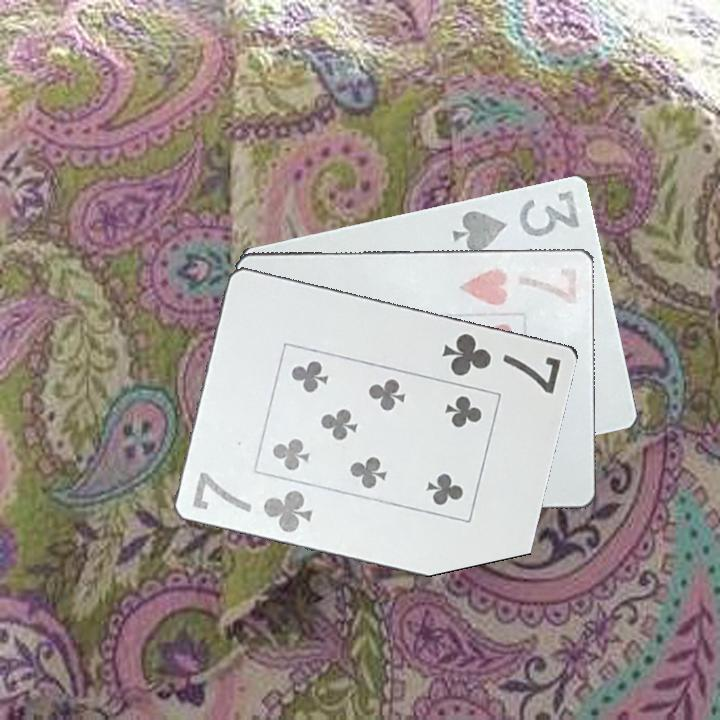3s: (449, 186, 585, 255)
7c: (189, 467, 316, 536), (439, 329, 565, 397)
7h: (456, 261, 582, 309)
